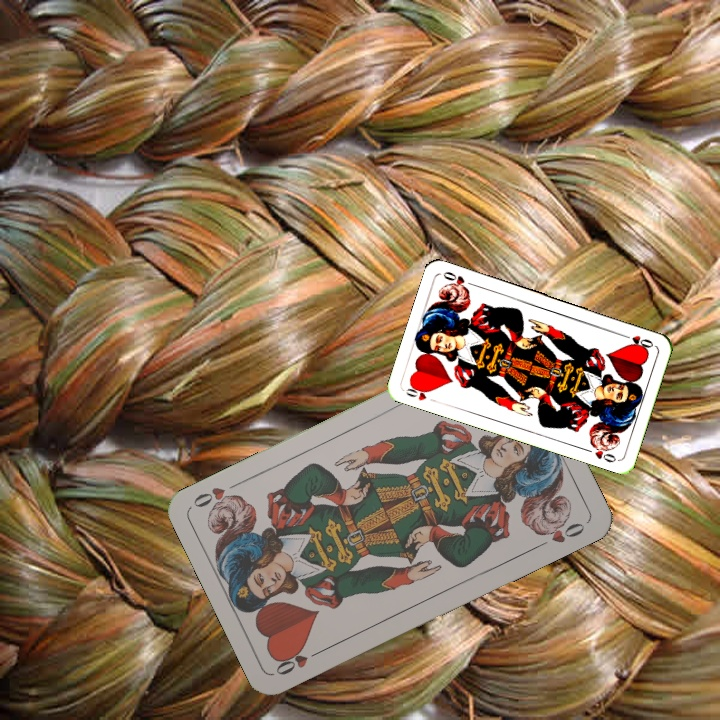HO: (271, 644, 327, 678), (402, 380, 440, 405), (617, 330, 656, 351)
